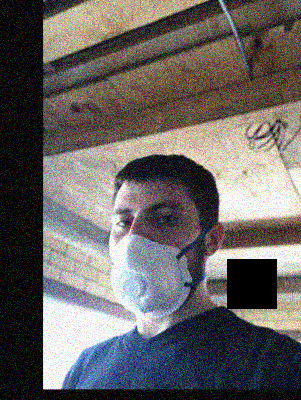with_mask: (109, 194, 199, 319)
